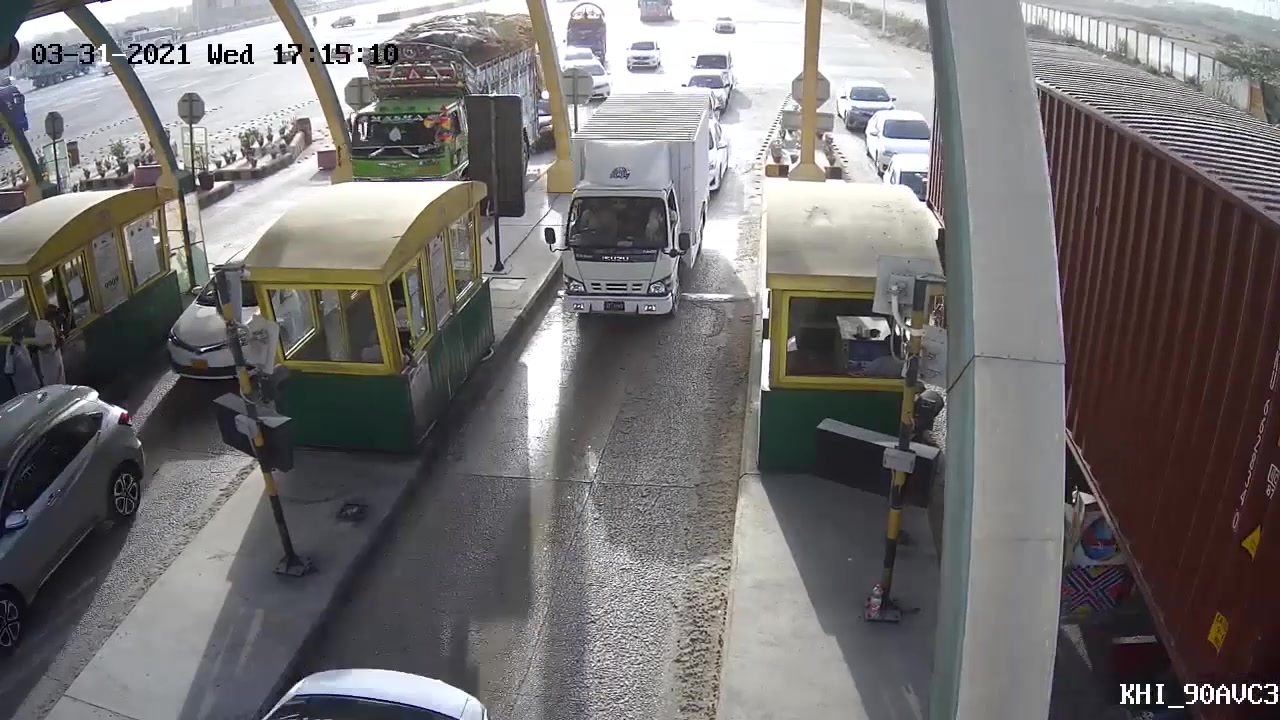F5: (542, 105, 707, 348)
